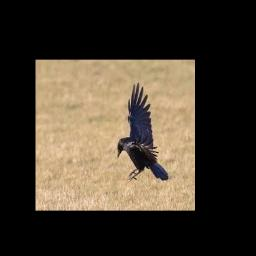Crow: (117, 83, 169, 182)
